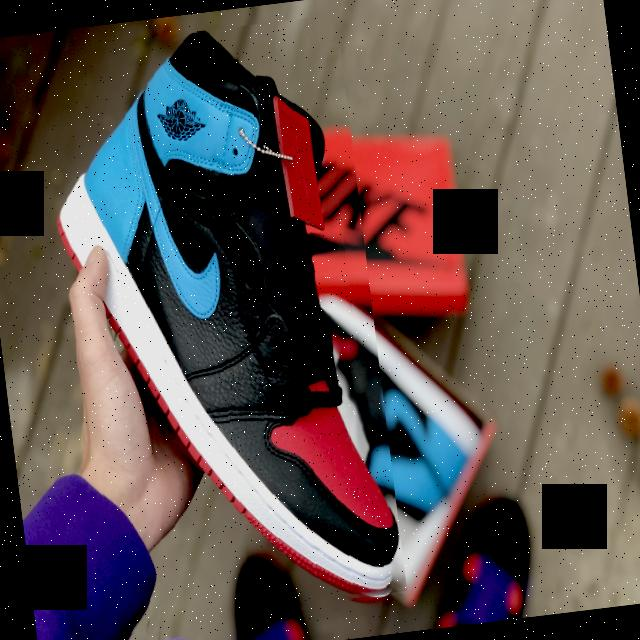shoe: (31, 14, 408, 637)
